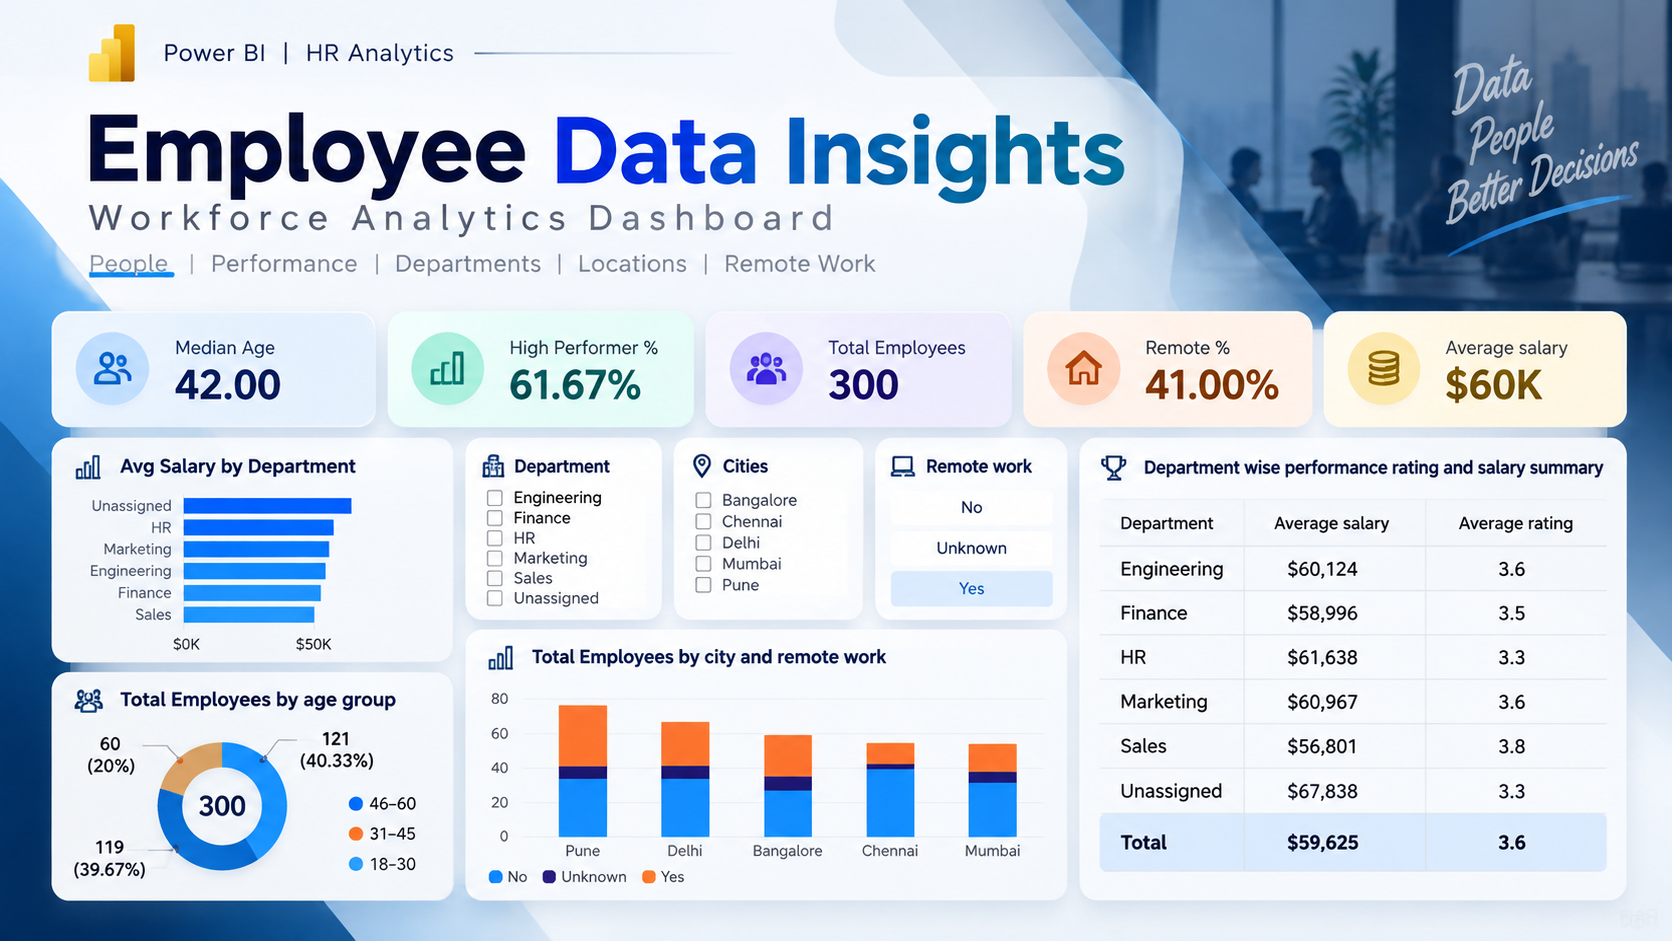

This screenshot's page, from the dashboard's own definition file:
{"tool":"powerbi","page":{"name":"Page 1","canvas":[1920,1080],"ordinal":0},"visuals":[{"type":"clusteredBarChart","title":"Avg Salary by department","fields":{"Category":["Employees_cleaned_Data.department"],"Y":["Employees_cleaned_Data.Avg Salary"]},"box":[27,320,316,281],"z":4000},{"type":"columnChart","title":"Total Employees by city and remote work","fields":{"Category":["Employees_cleaned_Data.city"],"Series":["Employees_cleaned_Data.remote_work"],"Y":["Employees_cleaned_Data.Total Employees"]},"box":[365.1,591.1,714.1,488.2],"z":5000},{"type":"pivotTable","title":"Department wise performance rating and salary summary","fields":{"Rows":["Employees_cleaned_Data.department"],"Values":["Avg(Employees_cleaned_Data.salary)","Avg(Employees_cleaned_Data.performance_rating)"]},"box":[1097.4,320.7,823,758.5],"z":6000},{"type":"donutChart","title":"Total Employees by age group","fields":{"Category":["Employees_cleaned_Data.age_group"],"Y":["Employees_cleaned_Data.Total Employees"]},"box":[26.2,601.1,314.7,472],"z":7000},{"type":"listSlicer","title":"Department","fields":{"Values":["Employees_cleaned_Data.department"]},"box":[365.1,310.7,199.7,280.4],"z":8000},{"type":"listSlicer","title":"cities","fields":{"Values":["Employees_cleaned_Data.city"]},"box":[578.9,310.7,189.6,280.4],"z":9000},{"type":"advancedSlicerVisual","title":"remote work","fields":{"Values":["Employees_cleaned_Data.remote_work"]},"box":[786.7,314.7,292.5,276.4],"z":10000},{"type":"cardVisual","title":"Employee Data Insights","fields":{"Data":["Employees_cleaned_Data.Median Age","Employees_cleaned_Data.High Performer %","Employees_cleaned_Data.Total Employees","Employees_cleaned_Data.Remote %","Avg(Employees_cleaned_Data.salary)"]},"box":[46.4,26.2,1831.7,286.4],"z":10001}]}

Visuals, with their boxes in screenshot pixels (x1, y1, x2, y2), scaled from the page's 1920x1080 canvas onto the 1672x941 screenshot:
"Avg Salary by department" clusteredBarChart: {"x1": 24, "y1": 279, "x2": 299, "y2": 524}
"Total Employees by city and remote work" columnChart: {"x1": 318, "y1": 515, "x2": 940, "y2": 940}
"Department wise performance rating and salary summary" pivotTable: {"x1": 956, "y1": 279, "x2": 1671, "y2": 940}
"Total Employees by age group" donutChart: {"x1": 23, "y1": 524, "x2": 297, "y2": 935}
"Department" listSlicer: {"x1": 318, "y1": 271, "x2": 492, "y2": 515}
"cities" listSlicer: {"x1": 504, "y1": 271, "x2": 669, "y2": 515}
"remote work" advancedSlicerVisual: {"x1": 685, "y1": 274, "x2": 940, "y2": 515}
"Employee Data Insights" cardVisual: {"x1": 40, "y1": 23, "x2": 1636, "y2": 272}
